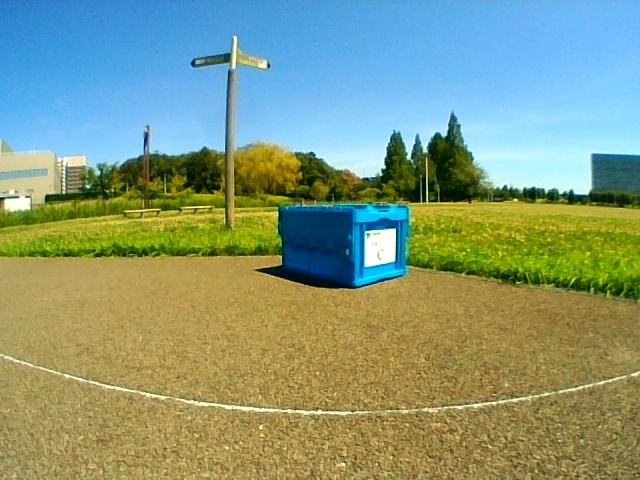blue_box: (279, 204, 410, 286)
tag_c: (365, 233, 394, 263)
